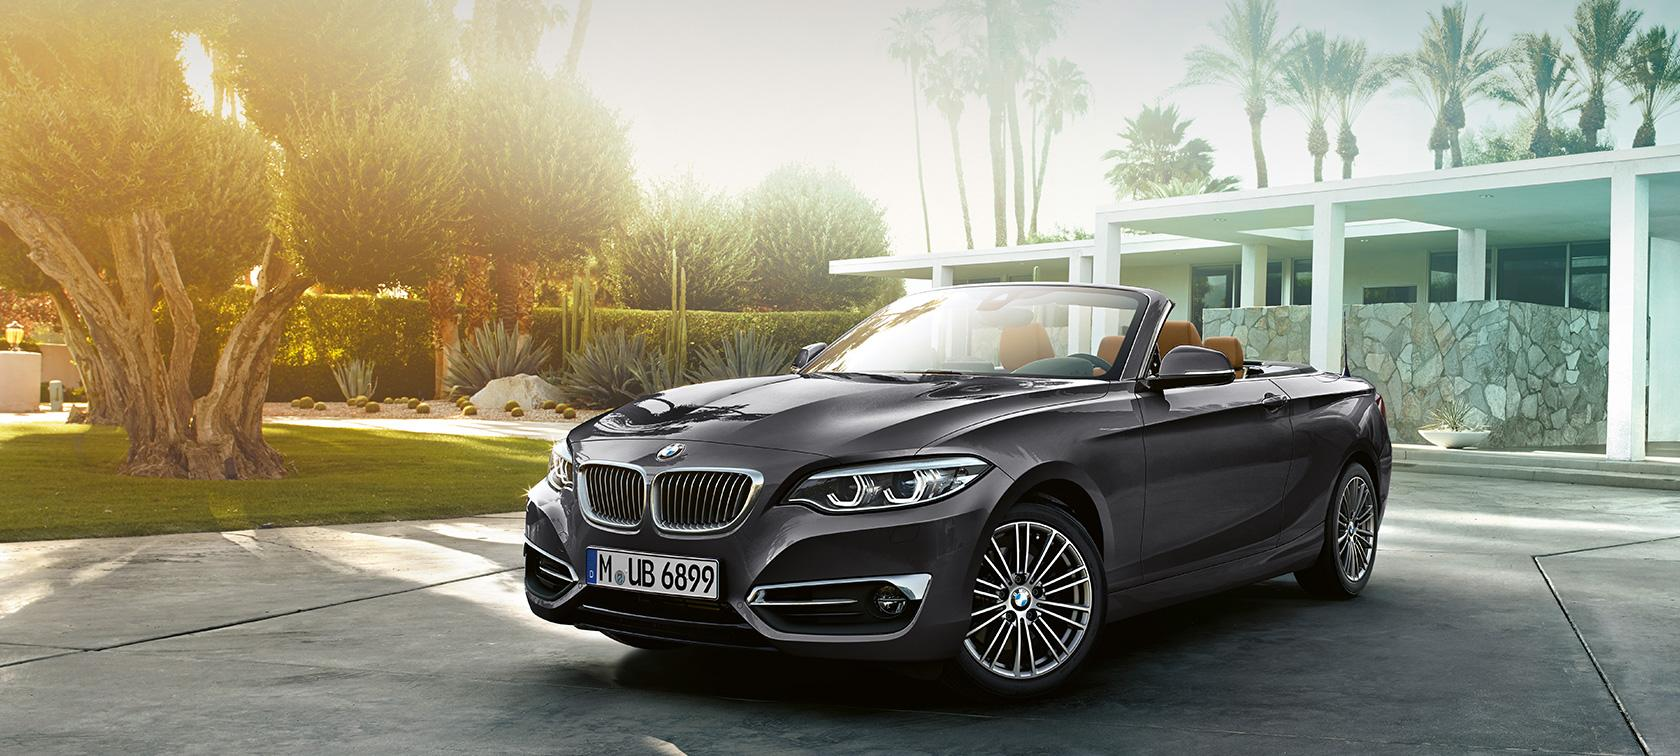car: (513, 270, 1393, 701)
